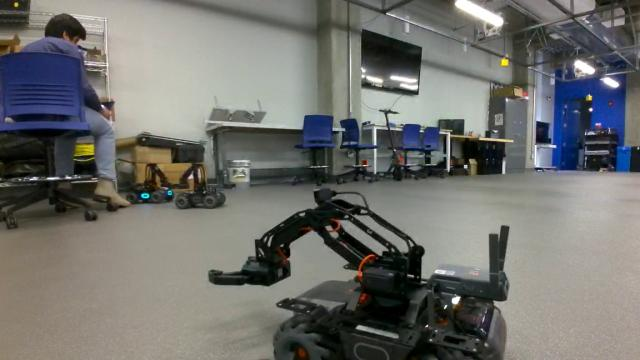robot: (202, 186, 516, 360)
